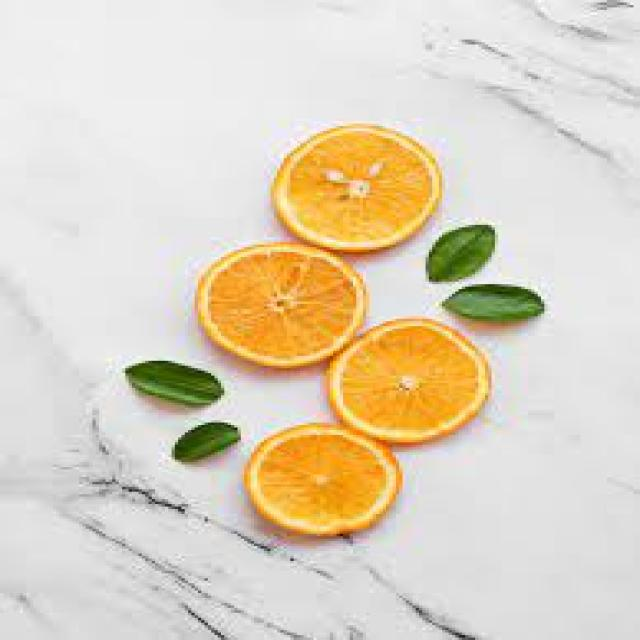orange: (264, 114, 464, 254)
